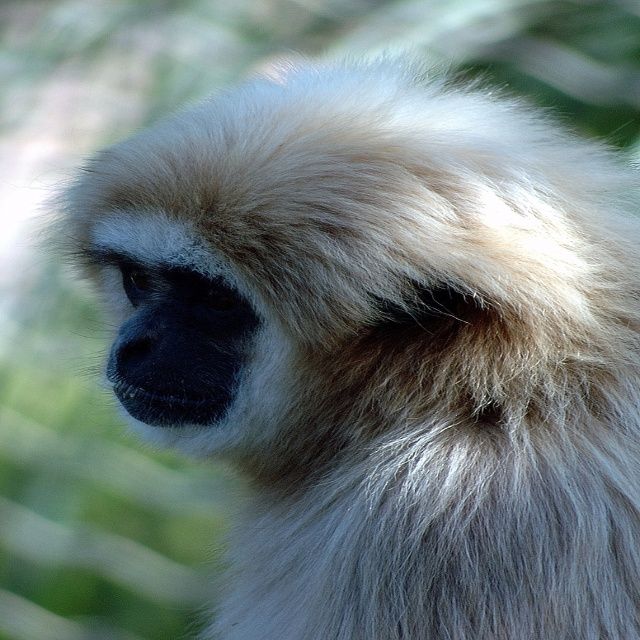Monkey: (5, 40, 640, 640)
